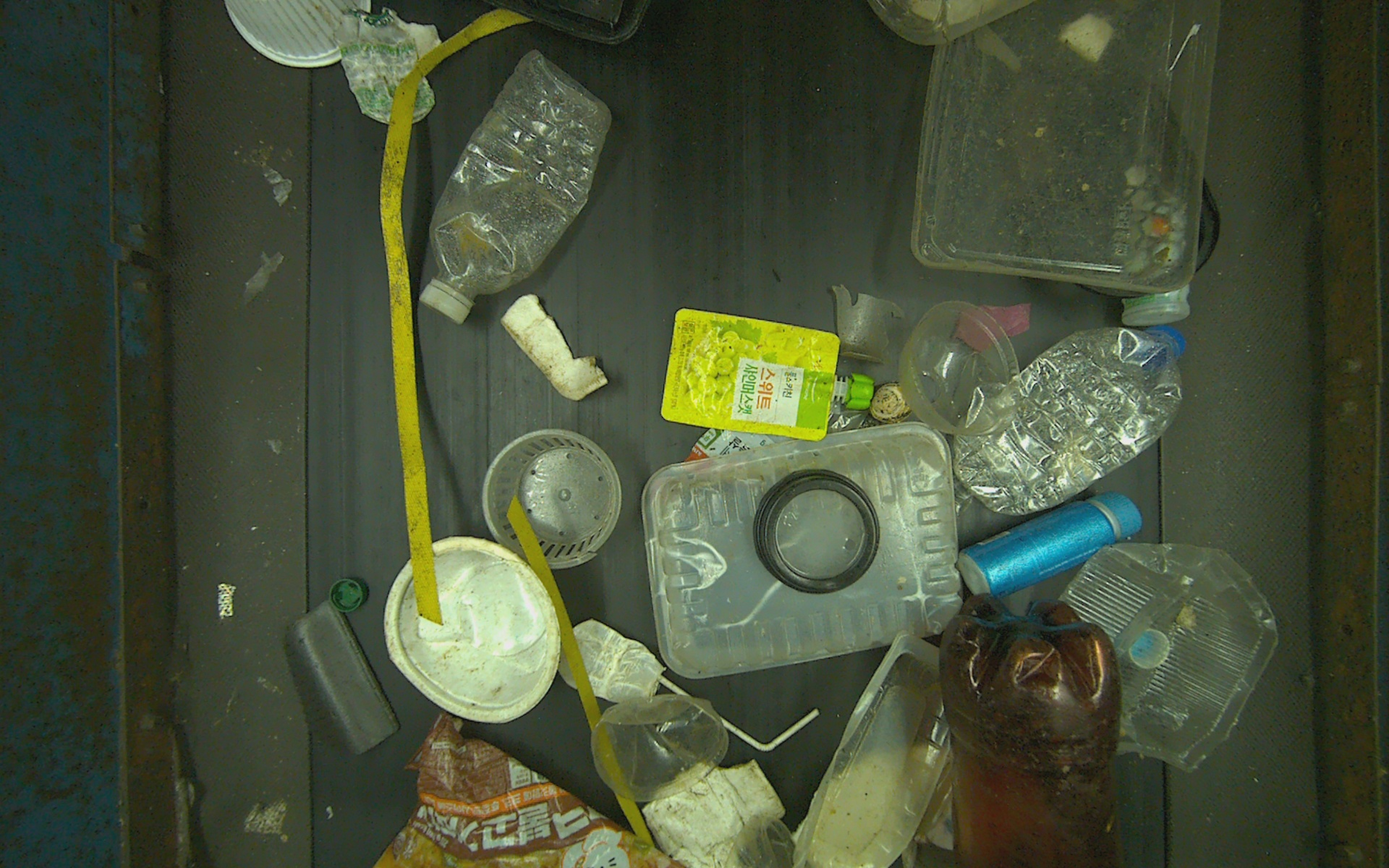PET: (419, 49, 611, 325), (939, 594, 1124, 868), (953, 326, 1185, 516)
PET-C: (911, 0, 1222, 294), (1058, 543, 1278, 772), (793, 630, 950, 868), (898, 301, 1020, 434), (591, 694, 729, 802)
PS-W: (959, 491, 1142, 594), (334, 9, 435, 124), (559, 618, 666, 704)
